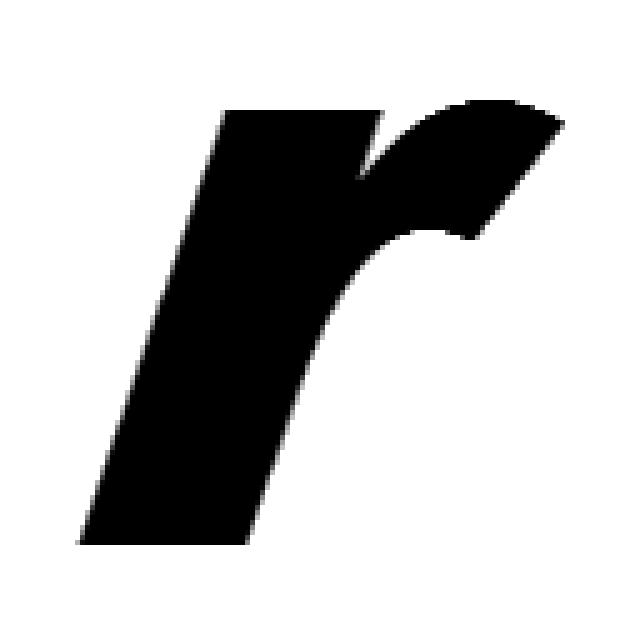R: (70, 85, 565, 550)
